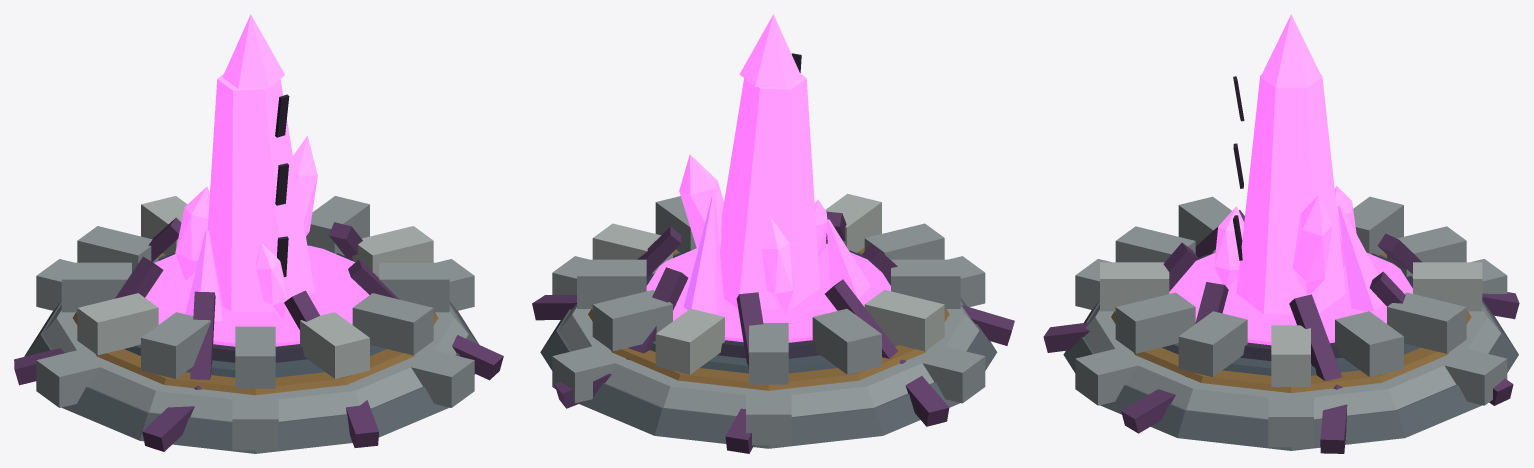
The model's file is wellspring_uncapped.glb.
3 views of the same model, side by side, from view 1: azimuth 30°, elevation 25°; view 2: azimuth 150°, elevation 25°; view 3: azimuth 270°, elevation 25° (orthographic).
Visible parts, largest first — view 1: Uncapped_Crystal_Body, Wellspring_State_Anchor_Middle, Wellspring_State_Anchor_Lower, Uncapped_Basin_Liquid, Wellspring_State_Anchor_Inlay, Uncapped_Basin_Rim_7, Uncapped_Basin_Rim_11, Uncapped_Basin_Rim_10, Uncapped_Basin_Rim_8, Uncapped_Basin_Rim_12, Wellspring_State_Anchor_Buttress_4, Wellspring_State_Anchor_Buttress_6 (+26 smaller); view 2: Uncapped_Crystal_Body, Wellspring_State_Anchor_Middle, Wellspring_State_Anchor_Lower, Uncapped_Basin_Liquid, Wellspring_State_Anchor_Inlay, Uncapped_Basin_Rim_3, Uncapped_Basin_Rim_4, Uncapped_Basin_Rim_6, Uncapped_Basin_Rim_7, Uncapped_Basin_Rim_2, Uncapped_Basin_Rim_8, Uncapped_Satellite_Spire_1 (+27 smaller); view 3: Uncapped_Crystal_Body, Wellspring_State_Anchor_Middle, Wellspring_State_Anchor_Lower, Uncapped_Basin_Liquid, Wellspring_State_Anchor_Inlay, Uncapped_Basin_Rim_11, Uncapped_Basin_Rim_3, Uncapped_Basin_Rim_12, Uncapped_Basin_Rim_2, Uncapped_Basin_Rim_4, Uncapped_Basin_Rim_10, Uncapped_Crystal_Shard_1 (+25 smaller).
Boxes of the visible parts, x1,y1,x2,y2 form: Uncapped_Crystal_Body: (207,74,314,312); Wellspring_State_Anchor_Middle: (42,304,468,421); Wellspring_State_Anchor_Lower: (24,301,479,453); Uncapped_Basin_Liquid: (145,245,369,346); Wellspring_State_Anchor_Inlay: (73,253,438,395); Uncapped_Basin_Rim_7: (77,293,158,355); Uncapped_Basin_Rim_11: (352,293,433,355); Uncapped_Basin_Rim_10: (300,312,369,378); Uncapped_Basin_Rim_8: (141,312,210,378); Uncapped_Basin_Rim_12: (379,262,449,312); Wellspring_State_Anchor_Buttress_4: (36,348,113,407); Wellspring_State_Anchor_Buttress_6: (397,348,474,407); Uncapped_Crystal_Body: (720,73,819,308); Wellspring_State_Anchor_Middle: (558,301,979,416); Wellspring_State_Anchor_Lower: (540,298,997,448); Uncapped_Basin_Liquid: (646,244,890,342); Wellspring_State_Anchor_Inlay: (588,247,949,390); Uncapped_Basin_Rim_3: (592,290,672,351); Uncapped_Basin_Rim_4: (655,308,724,374); Uncapped_Basin_Rim_6: (812,308,881,374); Uncapped_Basin_Rim_7: (864,290,944,351); Uncapped_Basin_Rim_2: (577,259,646,308); Uncapped_Basin_Rim_8: (891,259,960,308); Uncapped_Satellite_Spire_1: (683,197,724,313); Uncapped_Crystal_Body: (1236,74,1345,313); Wellspring_State_Anchor_Middle: (1084,304,1500,419); Wellspring_State_Anchor_Lower: (1063,300,1518,450); Uncapped_Basin_Liquid: (1169,252,1412,345); Wellspring_State_Anchor_Inlay: (1111,252,1471,392); Uncapped_Basin_Rim_11: (1115,292,1195,353); Uncapped_Basin_Rim_3: (1387,292,1466,353); Uncapped_Basin_Rim_12: (1178,311,1247,377); Uncapped_Basin_Rim_2: (1335,311,1403,376); Uncapped_Basin_Rim_4: (1413,262,1482,311); Uncapped_Basin_Rim_10: (1100,262,1169,311); Uncapped_Crystal_Shard_1: (1293,195,1332,294).
Bounding box in the file's own units: 4.88 × 3.77 × 4.81.
